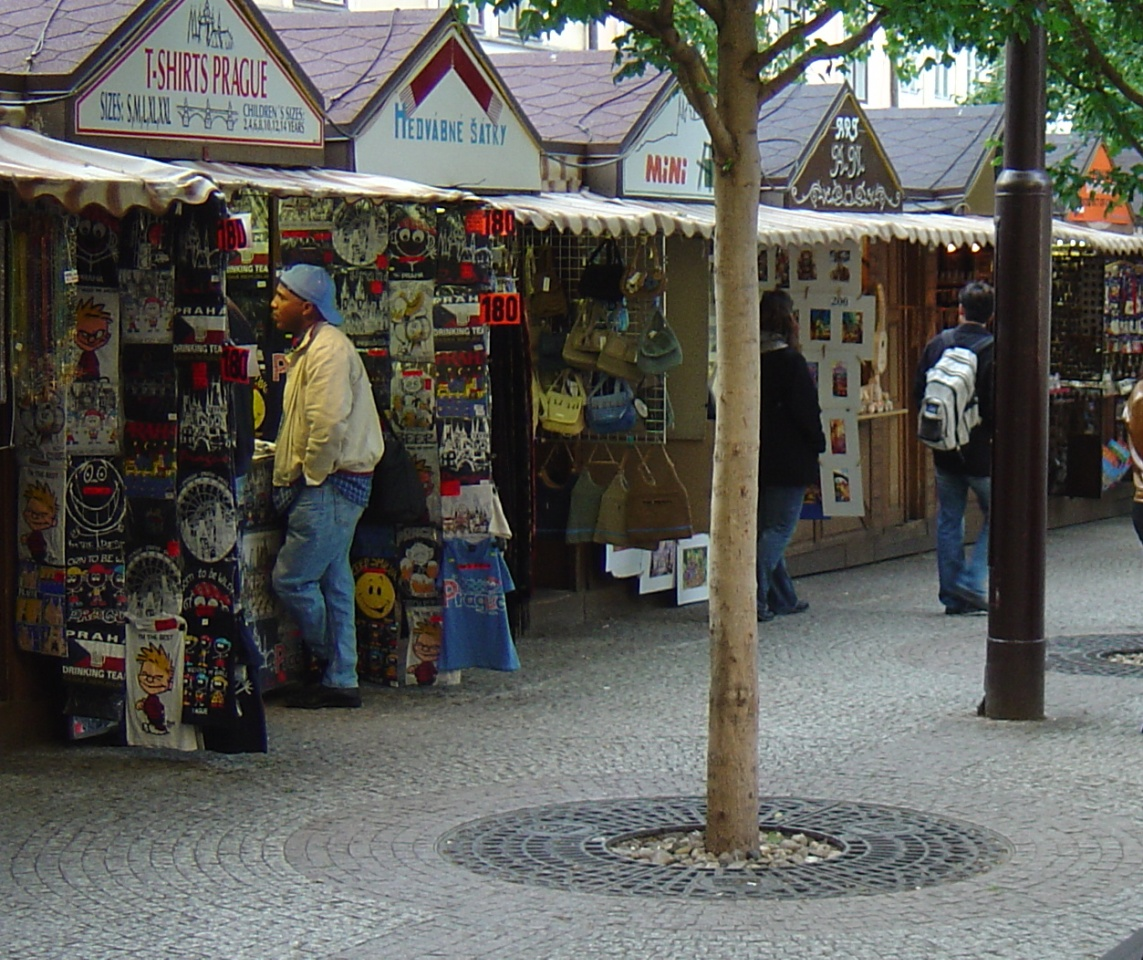person: (260, 261, 373, 708)
